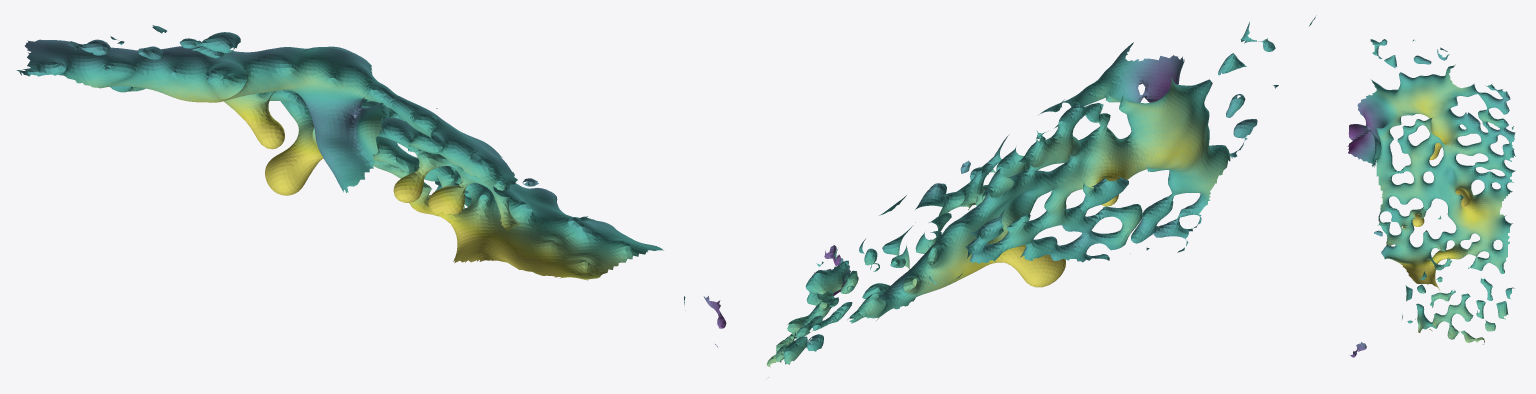
The model's file is crop1134_gap.glb.
3 views of the same model, side by side, from view 1: azimuth 30°, elevation 25°; view 2: azimuth 150°, elevation 25°; view 3: azimuth 270°, elevation 25° (orthographic). The views are drawn at different scales.
Visible parts, largest first — view 1: world; view 2: world; view 3: world.
Part boxes in pixels (x1=…): world: x1=16, y1=25, x2=726, y2=346; world: x1=766, y1=15, x2=1316, y2=377; world: x1=1347, y1=39, x2=1515, y2=357.
Bounding box in the file's own units: 2646 × 2048 × 1408.
